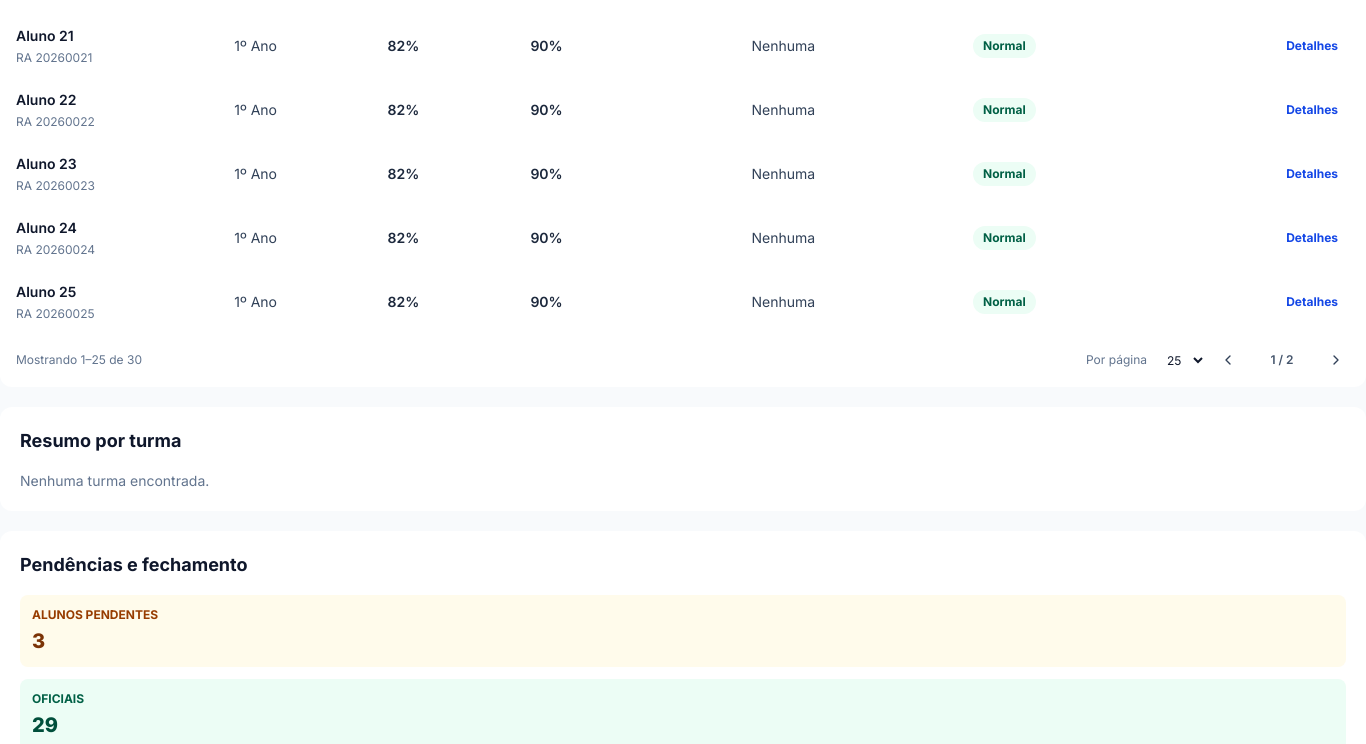
Test: PedagogicalMonitoringPanel › mostra métricas compactas, tabela sem motivos e paginação padrão de 25
The image size is (1366, 744).
(page scrolled)
Expected: the text "Mostrando 1–25 de 30" is shown, [16,352,142,368]
Click the button named "Próxima página" at coordinates (1336, 360), box [1322,346,1350,374]
(page scrolled)
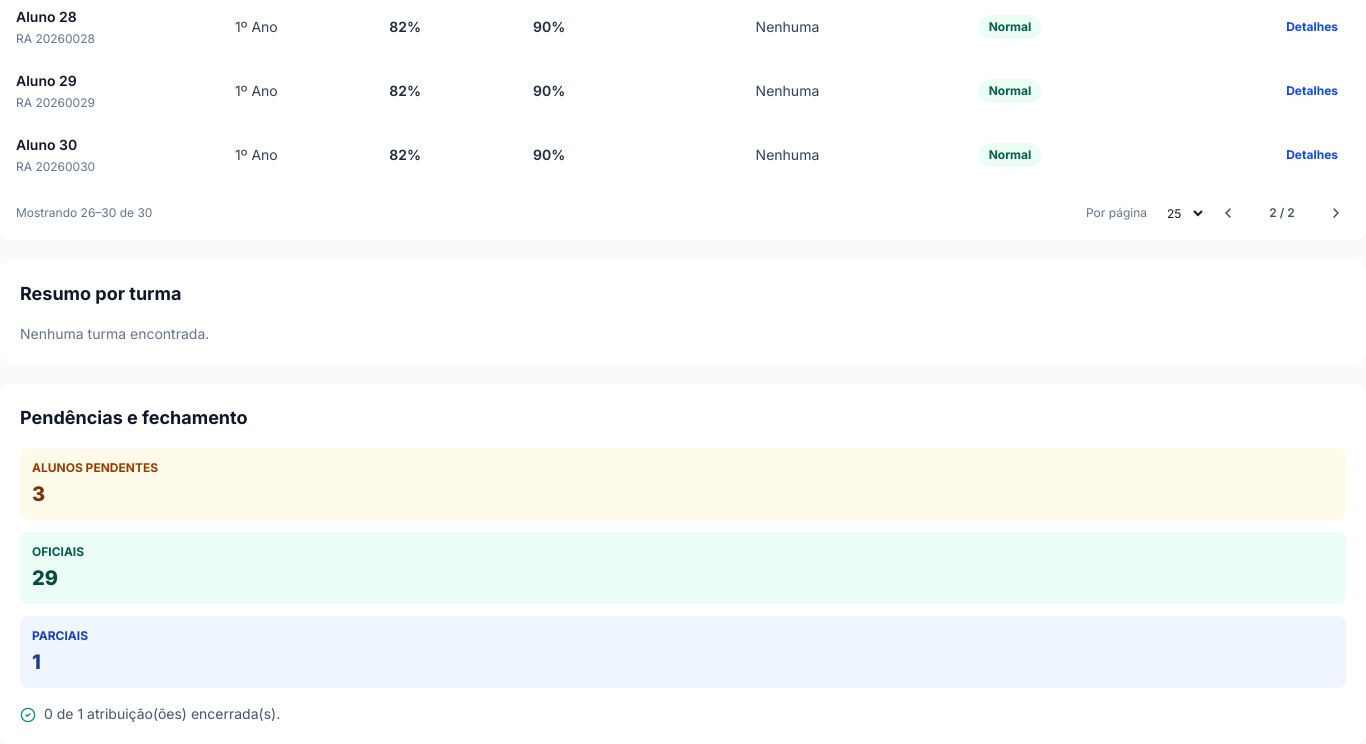
Now the text "Mostrando 26–30 de 30" is shown, box [16,205,152,221]
